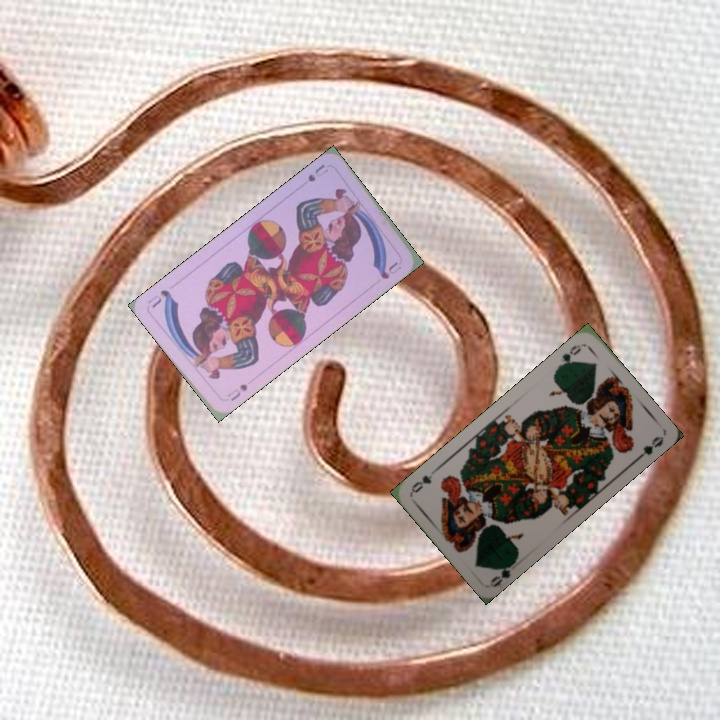GO: (486, 555, 519, 589), (553, 340, 585, 372)
SU: (304, 160, 331, 185), (226, 380, 250, 404)
